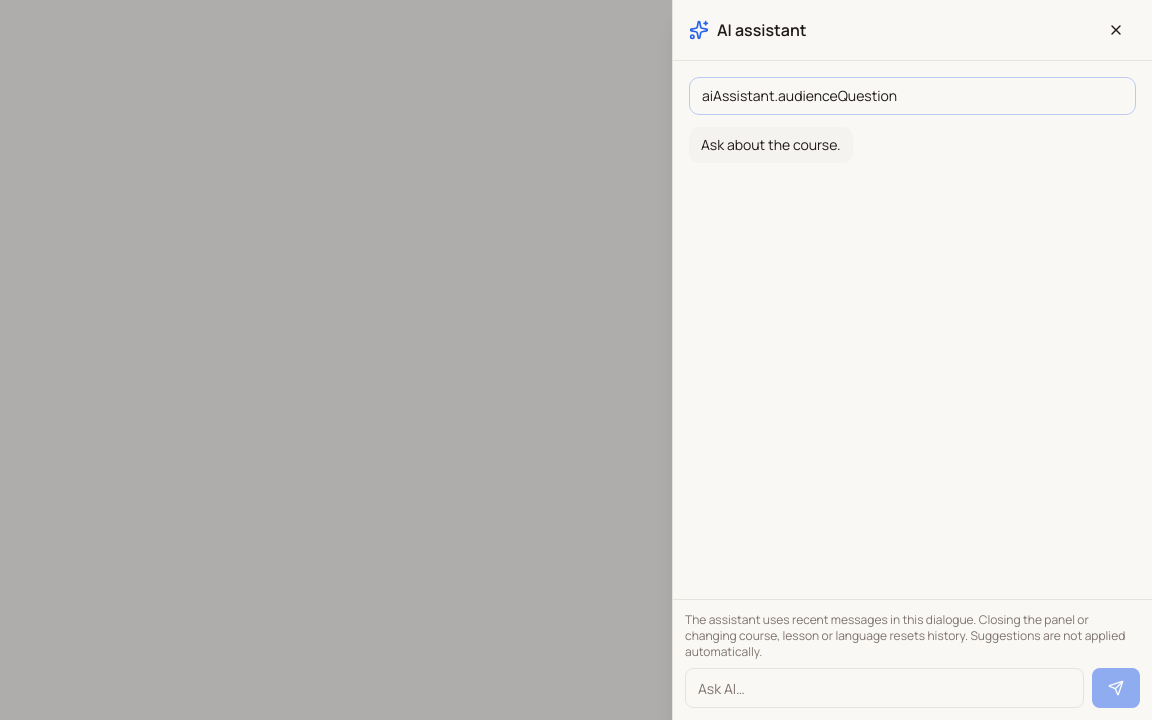
Scenario: AIChatPanel accessibility › keeps the send button disabled until a message is entered
The width and height of the screenshot is (1152, 720).
Expected: the button named "Send" is disabled, [1092,668,1140,708]
Type "  hello  " into the field labelled "Ask AI…".
click(884, 688); type("  hello  ")  # box [685,668,1084,708]
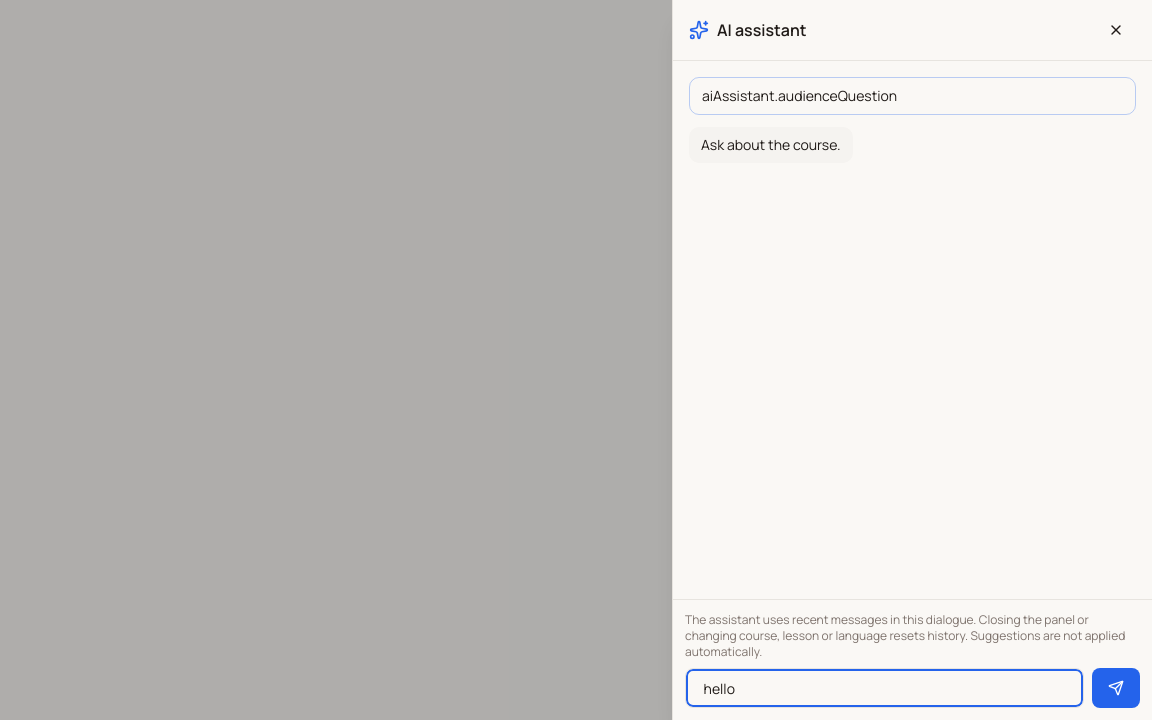
Now the button named "Send" is enabled, box [1092,668,1140,708]
